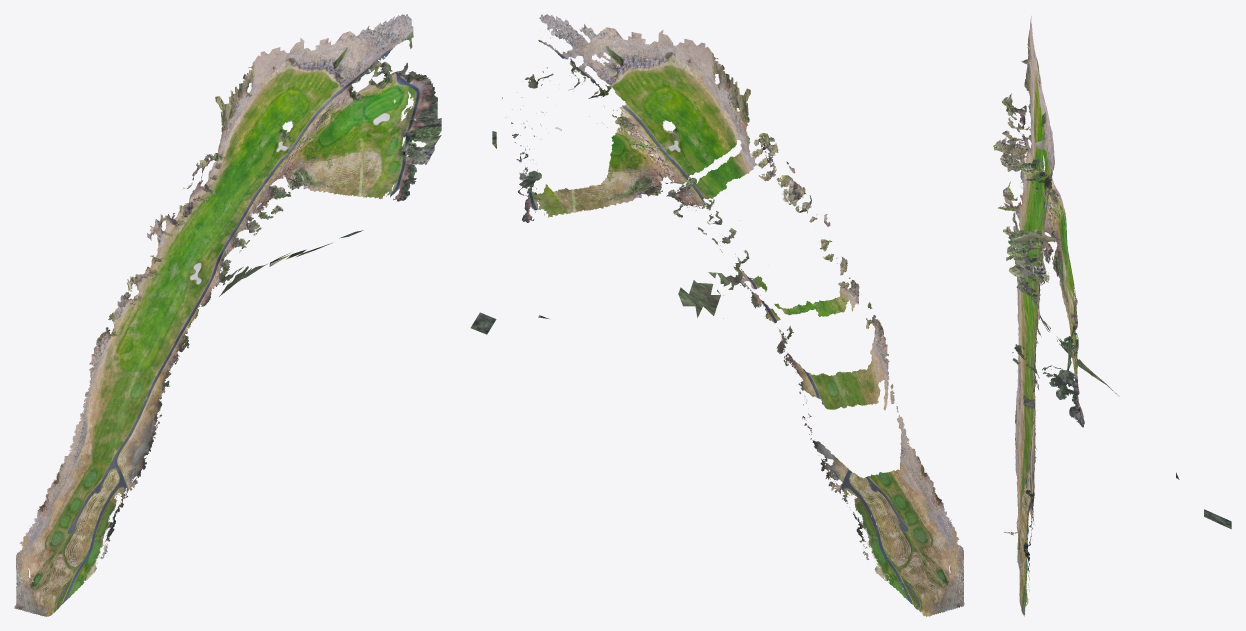
The picture shows the model from 3 angles, left to right: view 1: azimuth 30°, elevation 25°; view 2: azimuth 150°, elevation 25°; view 3: azimuth 270°, elevation 25°; orthographic projection. The views are drawn at different scales.
Size of the model in its own units: 410 by 454 by 129.
Materials: 18 (18 with a texture image).
